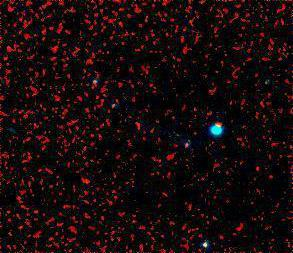star: (71, 166, 101, 196)
